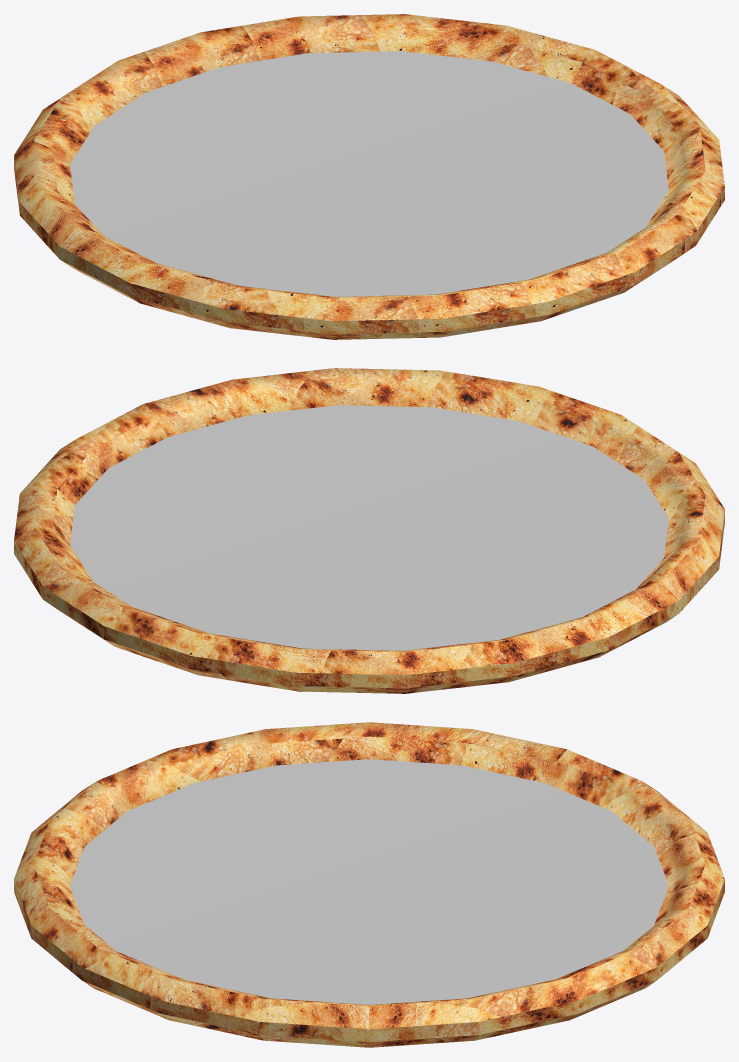
The model's file is whole pizza.fbx.
3 views of the same model, one above another, from view 1: azimuth 30°, elevation 25°; view 2: azimuth 150°, elevation 25°; view 3: azimuth 270°, elevation 25° (orthographic).
Visible parts, largest first — view 1: pCylinder1; view 2: pCylinder1; view 3: pCylinder1.
Part boxes in pixels (x1,y1,x2,y2): pCylinder1: (14, 14, 724, 339); pCylinder1: (14, 368, 724, 693); pCylinder1: (14, 722, 724, 1047).
Size of the model in its own units: 62.66 by 3.83 by 62.66.
